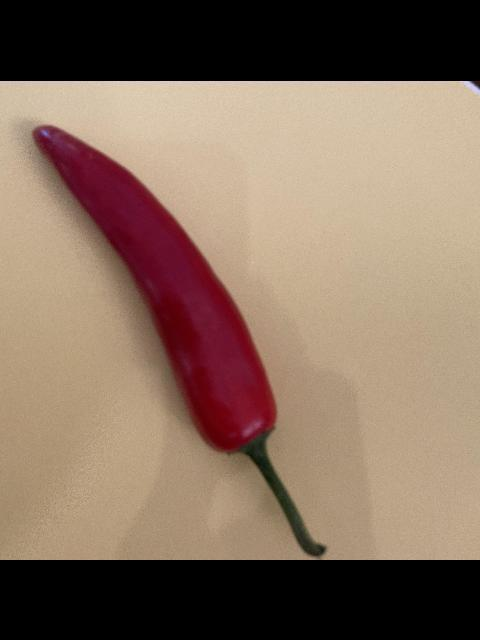chilli: (29, 120, 334, 560)
